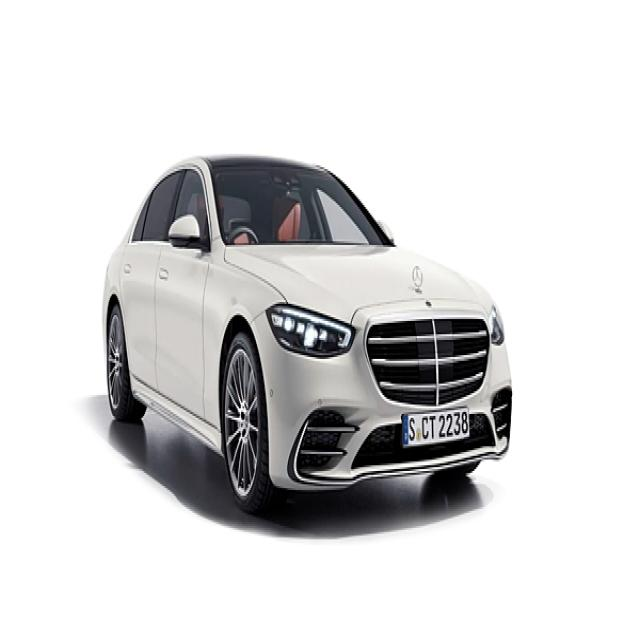car: (93, 154, 511, 474)
